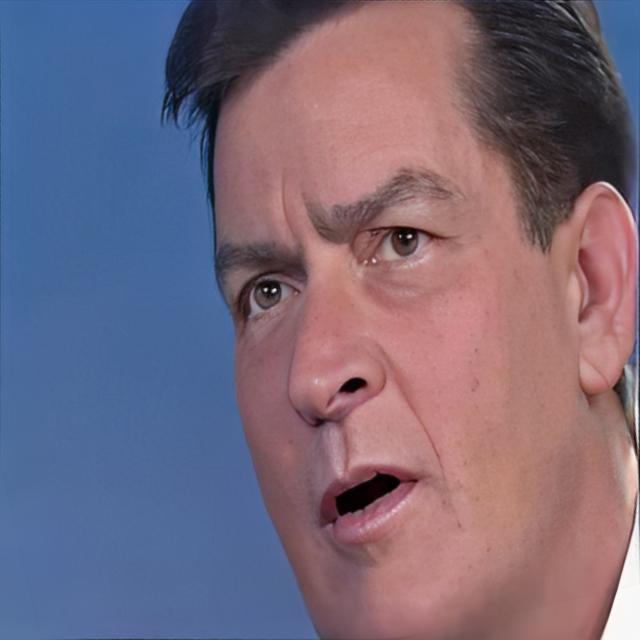anger: (202, 89, 583, 640)
